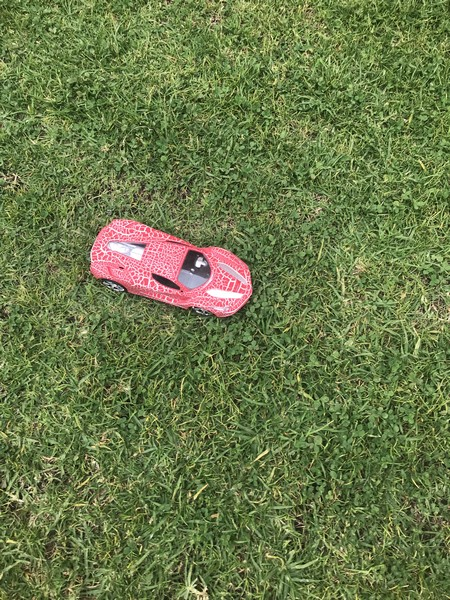RC: (88, 218, 254, 322)
